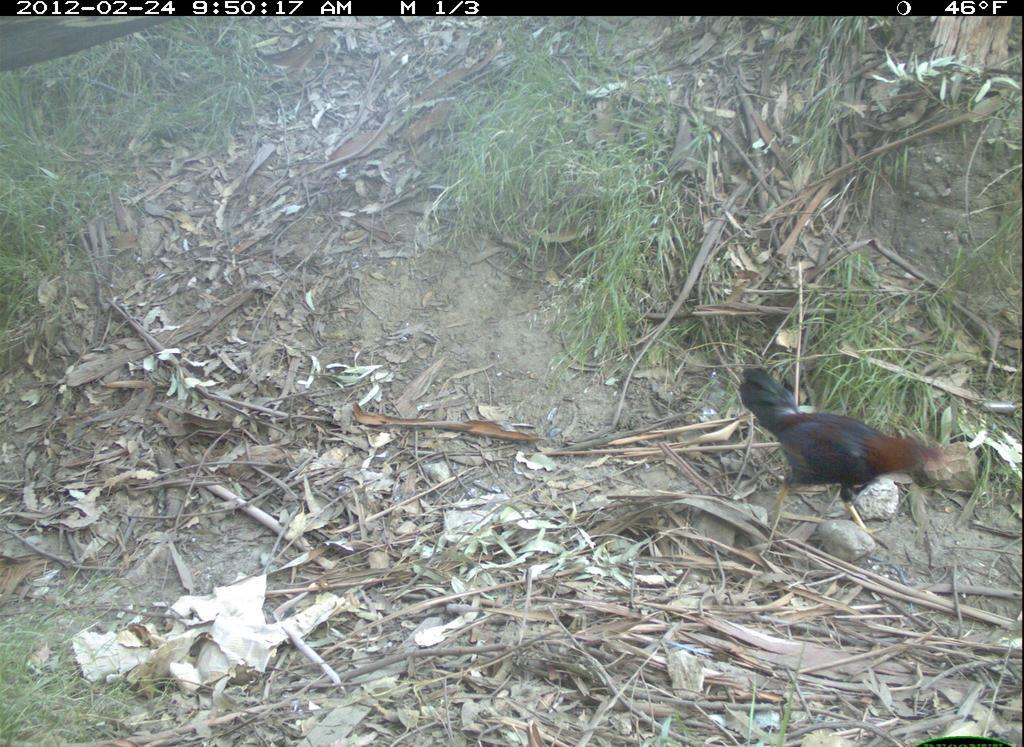bird: (738, 349, 1008, 534)
